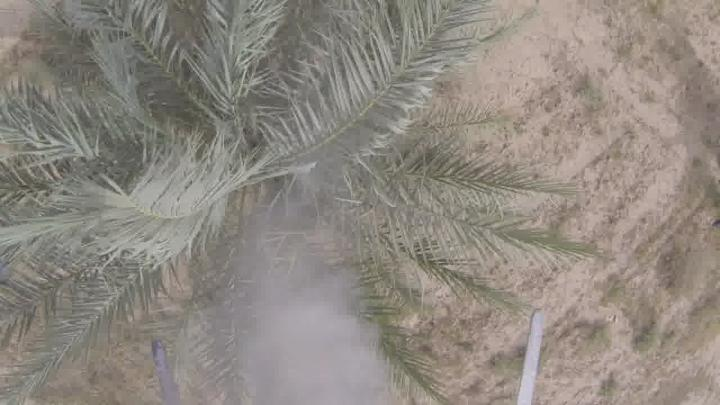Date-Palm-Crown: (51, 20, 420, 372)
